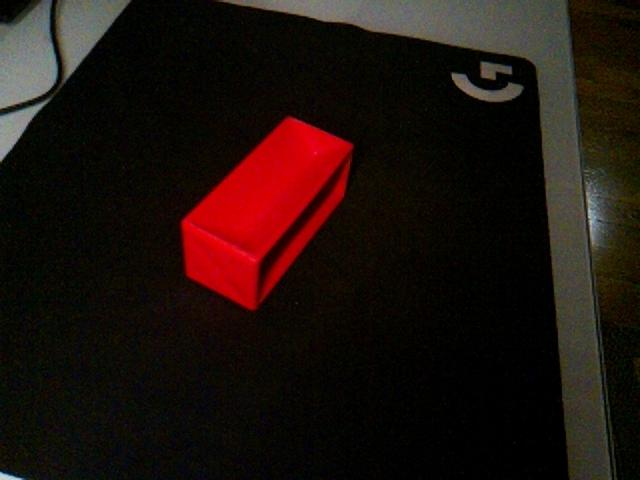red: (179, 113, 355, 312)
